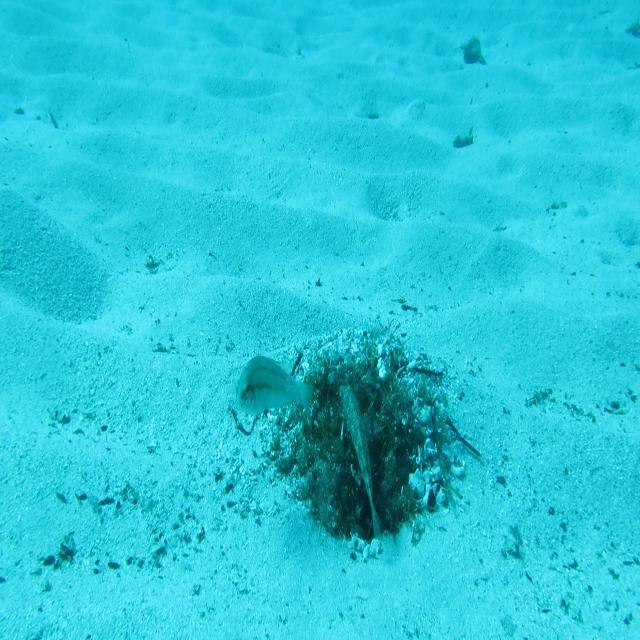ROLL: (338, 380, 384, 545)
core_nest: (330, 377, 377, 418)
female: (235, 352, 316, 426)
nest: (252, 316, 474, 572)
vegetation: (458, 36, 489, 72), (452, 126, 476, 152), (626, 22, 640, 40)
